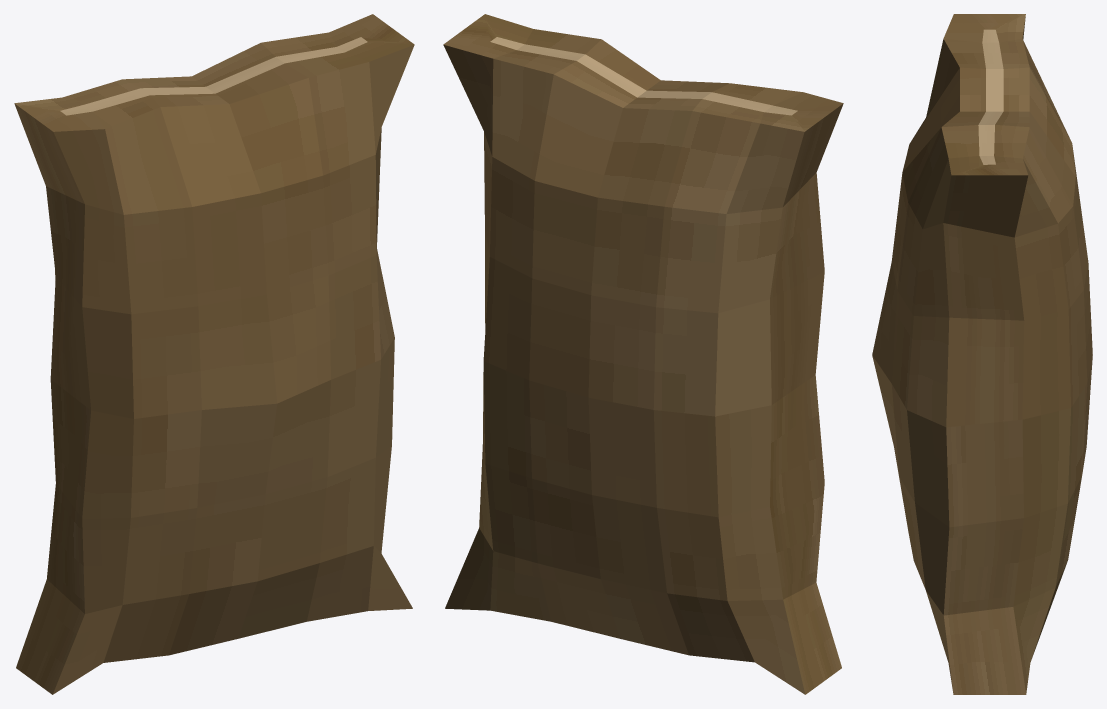
File: Sack1.glb
The picture shows the model from 3 angles, left to right: view 1: azimuth 30°, elevation 25°; view 2: azimuth 150°, elevation 25°; view 3: azimuth 270°, elevation 25°; orthographic projection. The views are drawn at different scales.
Parts seen in each view (by area): view 1: Cube; view 2: Cube; view 3: Cube.
Boxes of the visible parts, left/top/right/bottom form: Cube: left=14, top=14, right=414, bottom=694; Cube: left=443, top=14, right=843, bottom=694; Cube: left=872, top=14, right=1092, bottom=694.
Bounding box in the file's own units: 0.218 × 0.3269 × 0.1258.
Materials: 2 (2 with a texture image).
